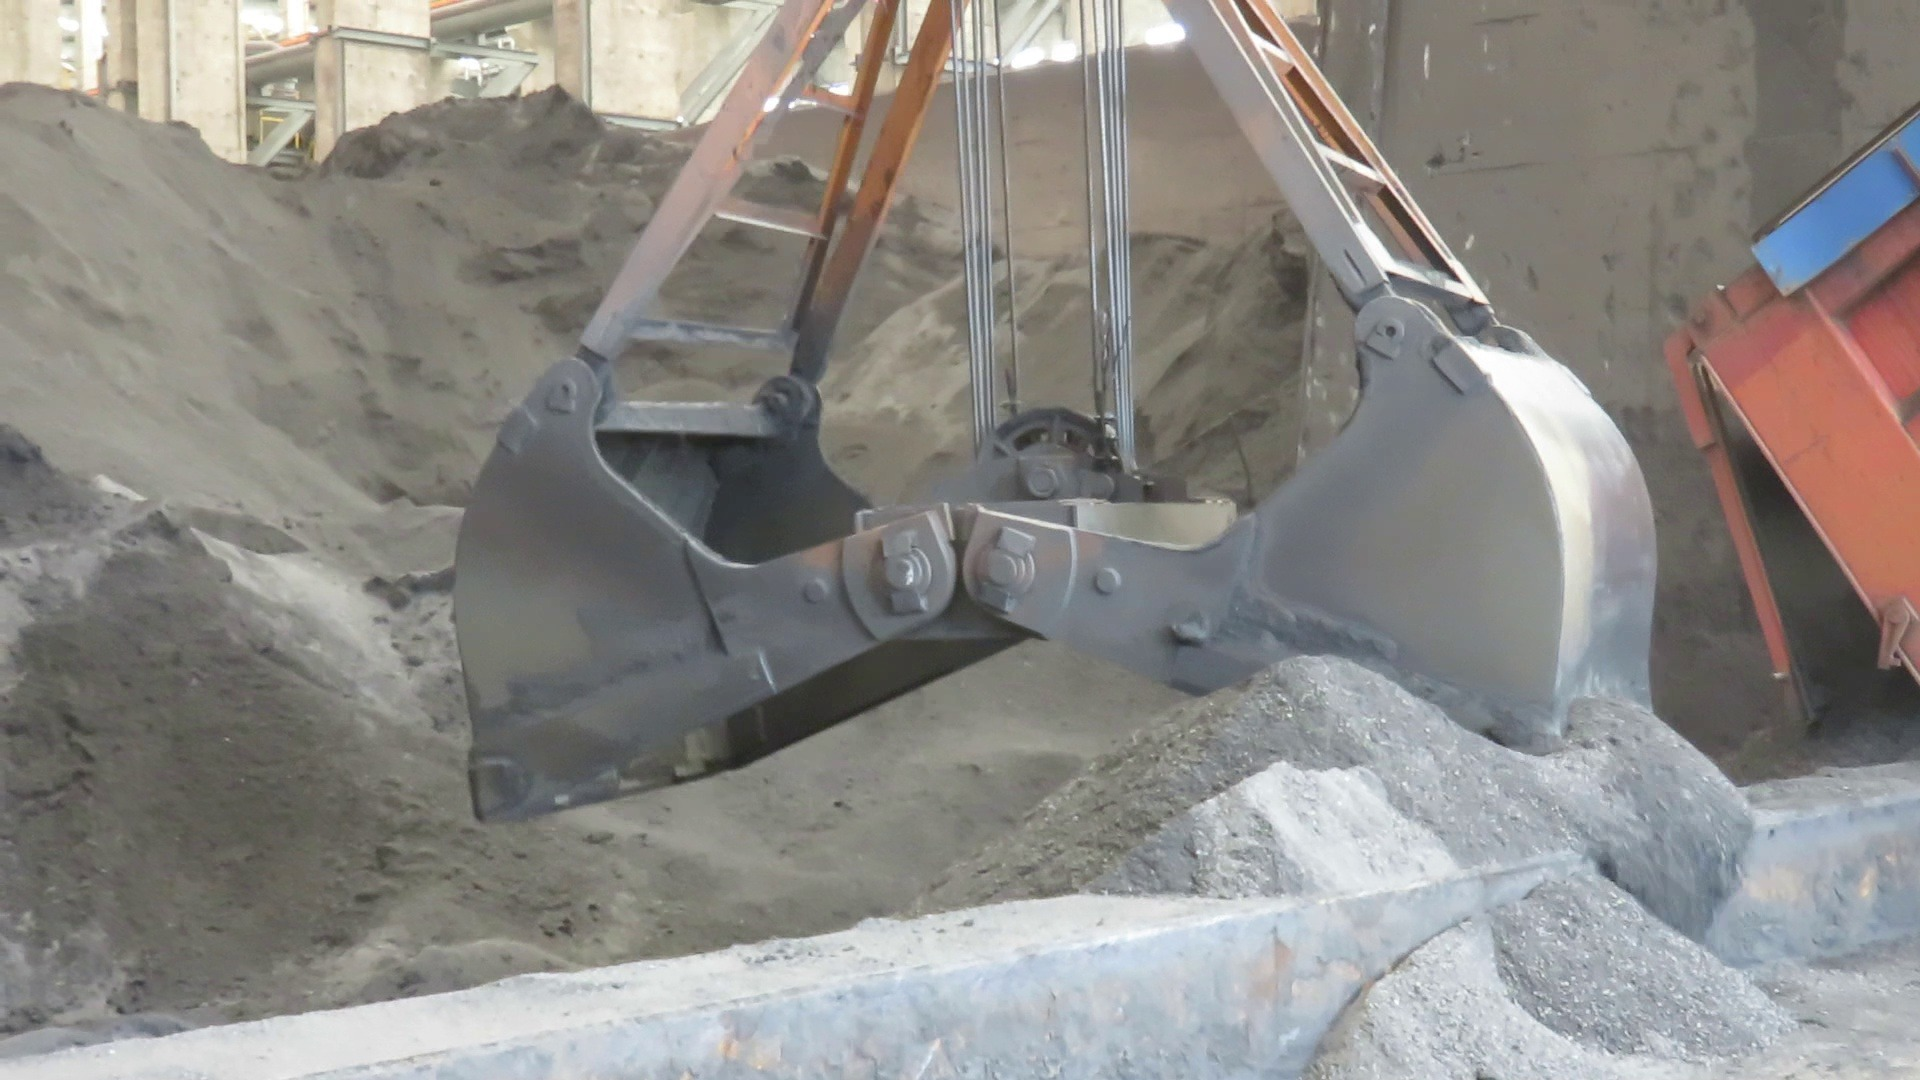grab: (447, 0, 1672, 833)
